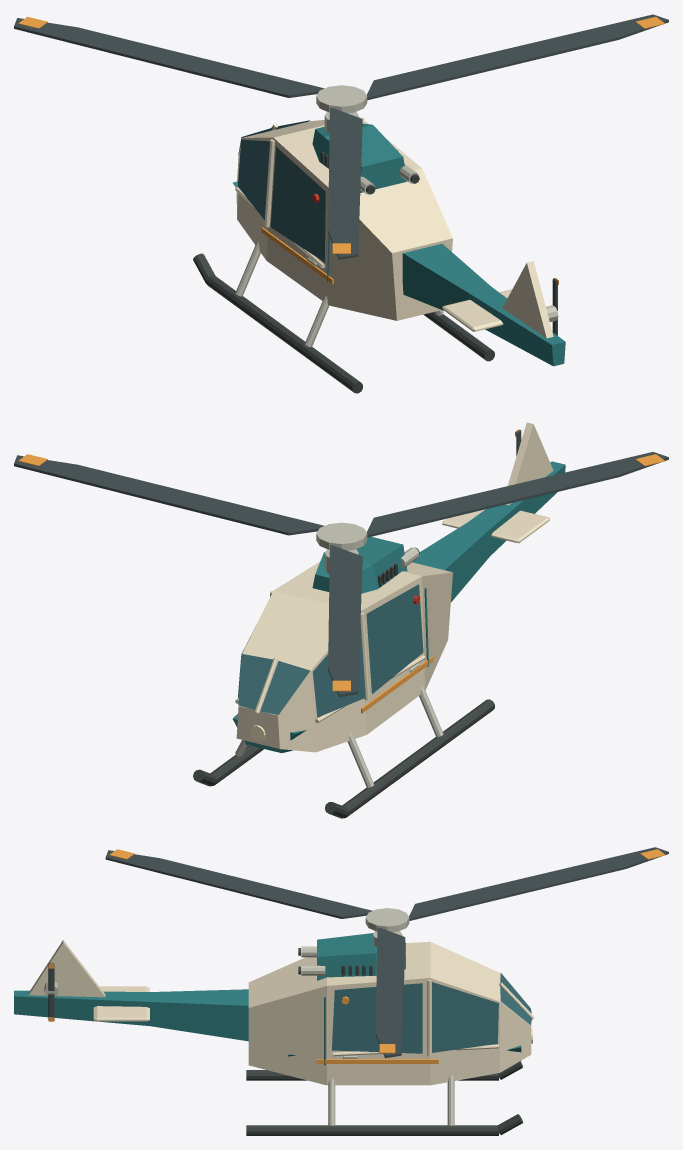
File: helicopter_detail.glb
3 views of the same model, one above another, from view 1: azimuth 30°, elevation 25°; view 2: azimuth 150°, elevation 25°; view 3: azimuth 270°, elevation 25° (orthographic). The views are drawn at different scales.
Visible parts, largest first — view 1: HelicopterModel Warm cream, MainRotor Blade graphite, HelicopterModel Deep teal enamel, HelicopterModel Teal canopy, HelicopterModel Dark grille, HelicopterModel Warm alloy, Main rotor hub, MainRotor Amber lamp; view 2: HelicopterModel Warm cream, MainRotor Blade graphite, HelicopterModel Teal canopy, HelicopterModel Deep teal enamel, HelicopterModel Dark grille, HelicopterModel Warm alloy, Main rotor hub, MainRotor Amber lamp; view 3: HelicopterModel Warm cream, MainRotor Blade graphite, HelicopterModel Deep teal enamel, HelicopterModel Teal canopy, HelicopterModel Dark grille, HelicopterModel Warm alloy, Main rotor hub, HelicopterModel Amber lamp, MainRotor Amber lamp.
Boxes of the visible parts, bbox=[...] form: HelicopterModel Warm cream: bbox=[235, 116, 553, 338]; MainRotor Blade graphite: bbox=[14, 14, 668, 259]; HelicopterModel Deep teal enamel: bbox=[233, 123, 565, 366]; HelicopterModel Teal canopy: bbox=[238, 120, 325, 262]; HelicopterModel Dark grille: bbox=[193, 150, 494, 393]; HelicopterModel Warm alloy: bbox=[235, 112, 443, 347]; Main rotor hub: bbox=[316, 85, 367, 113]; MainRotor Amber lamp: bbox=[18, 16, 664, 253]; HelicopterModel Warm cream: bbox=[235, 422, 553, 752]; MainRotor Blade graphite: bbox=[14, 452, 668, 697]; HelicopterModel Teal canopy: bbox=[238, 584, 423, 717]; HelicopterModel Deep teal enamel: bbox=[232, 461, 565, 753]; HelicopterModel Dark grille: bbox=[193, 547, 494, 818]; HelicopterModel Warm alloy: bbox=[235, 547, 443, 787]; Main rotor hub: bbox=[316, 522, 367, 550]; MainRotor Amber lamp: bbox=[18, 454, 664, 691]; HelicopterModel Warm cream: bbox=[29, 940, 534, 1085]; MainRotor Blade graphite: bbox=[105, 847, 668, 1058]; HelicopterModel Deep teal enamel: bbox=[14, 933, 521, 1065]; HelicopterModel Teal canopy: bbox=[331, 973, 531, 1053]; HelicopterModel Dark grille: bbox=[246, 948, 523, 1135]; HelicopterModel Warm alloy: bbox=[301, 931, 454, 1125]; Main rotor hub: bbox=[365, 908, 409, 932]; HelicopterModel Amber lamp: bbox=[316, 996, 438, 1063]; MainRotor Amber lamp: bbox=[109, 849, 665, 1053].
Bounding box in the file's own units: 5.87 × 2.49 × 7.77.
